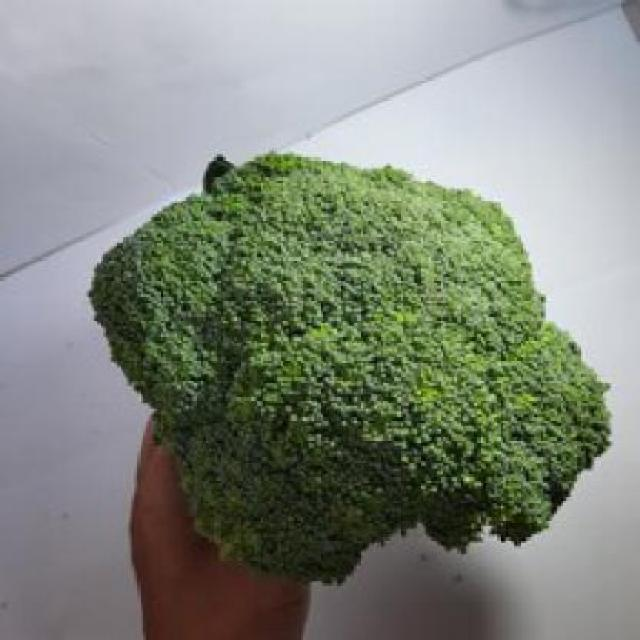broccoli: (122, 160, 598, 569)
